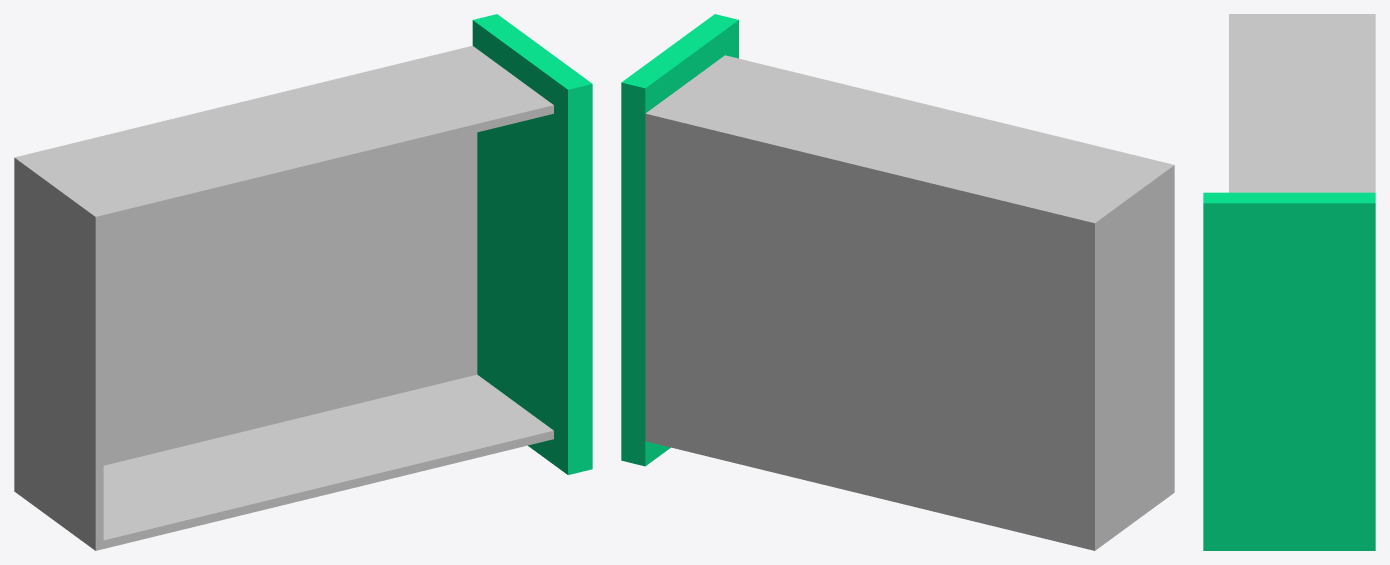
File: ROOM73B2-KITCHEN-BODYSET4_link_mesh.dae
3 renders of one model, left to right at view 1: azimuth 30°, elevation 25°; view 2: azimuth 150°, elevation 25°; view 3: azimuth 270°, elevation 25°, orthographic. The views are drawn at different scales.
Visible parts, largest first — view 1: ROOM73B2-KITCHEN-BODYSET4_link (×2); view 2: ROOM73B2-KITCHEN-BODYSET4_link (×2); view 3: ROOM73B2-KITCHEN-BODYSET4_link (×2).
Boxes of the visible parts, bbox=[...] form: ROOM73B2-KITCHEN-BODYSET4_link (×2): bbox=[14, 14, 592, 550]; ROOM73B2-KITCHEN-BODYSET4_link (×2): bbox=[621, 14, 1174, 550]; ROOM73B2-KITCHEN-BODYSET4_link (×2): bbox=[1203, 14, 1375, 550].
Size of the model in its own units: 0.59 by 0.45 by 0.202.
